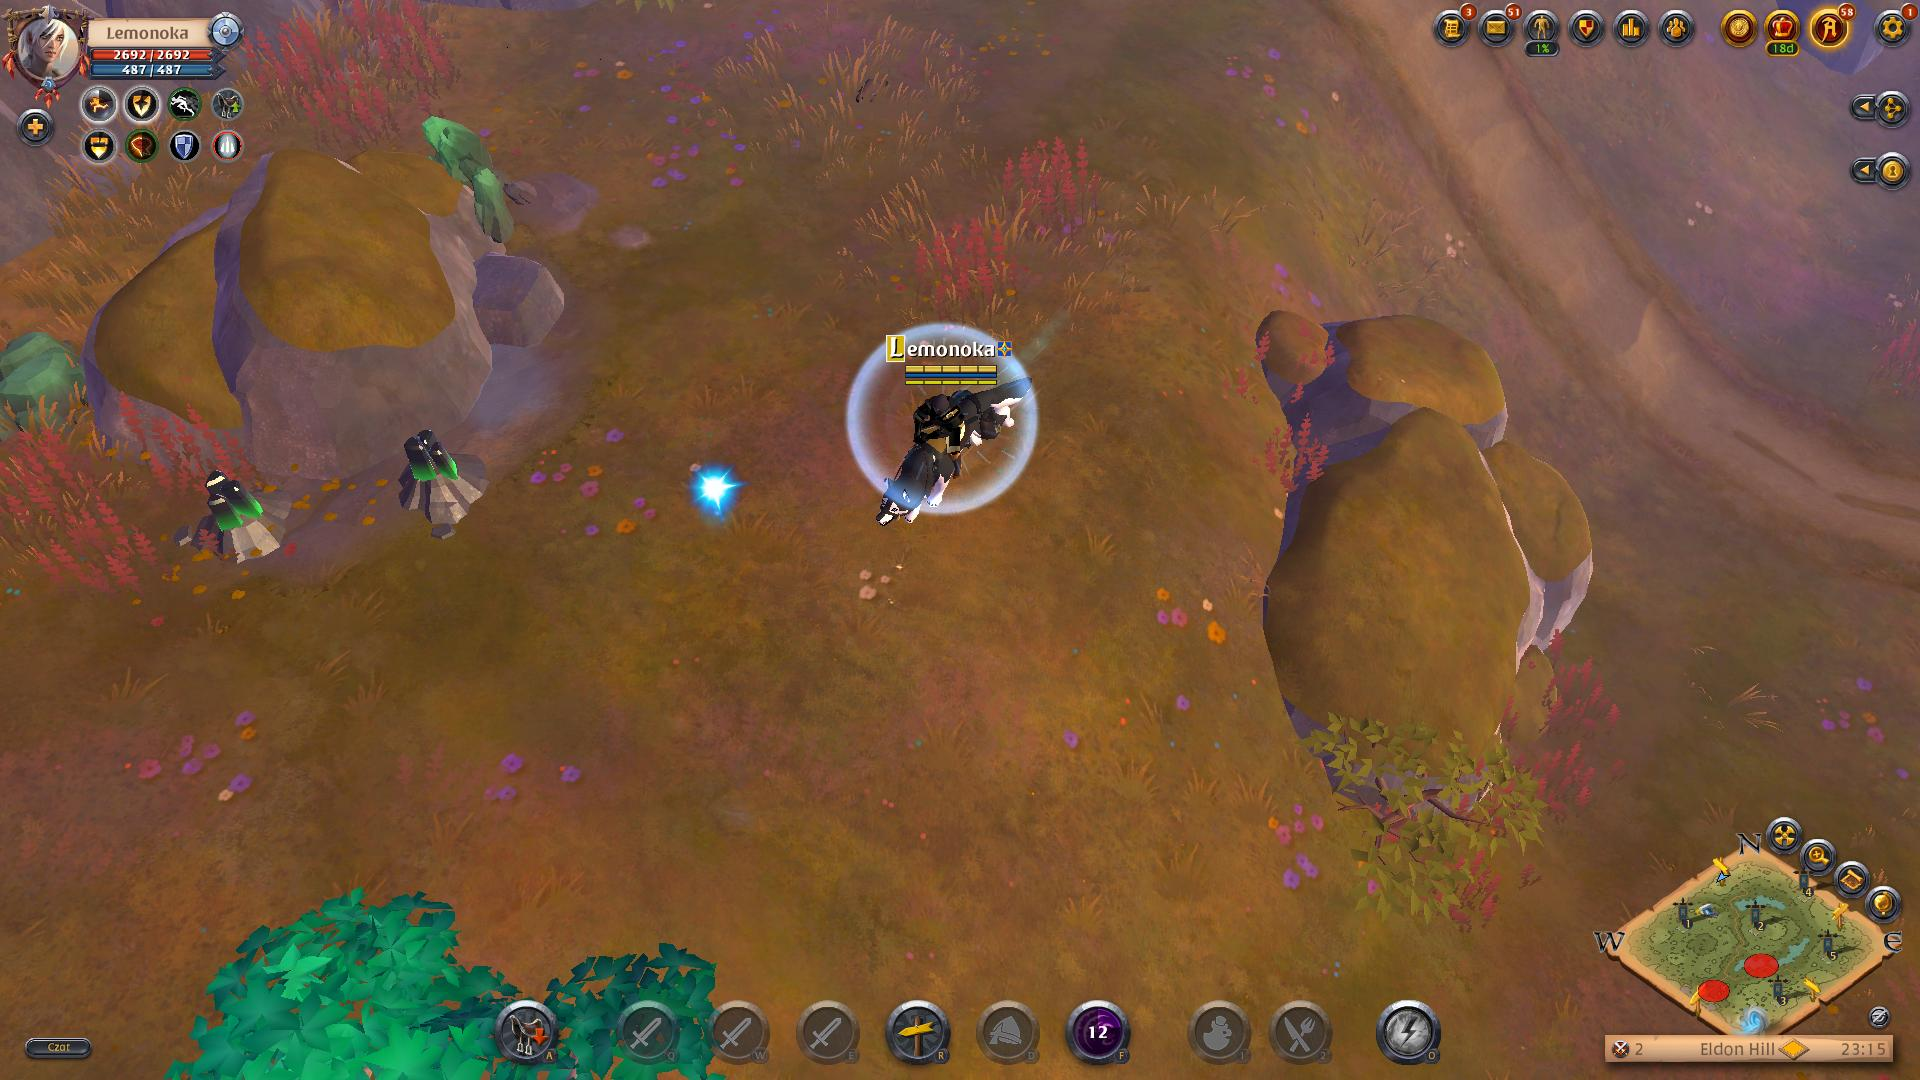ore tier 3: (393, 429, 492, 535), (195, 465, 290, 563)
